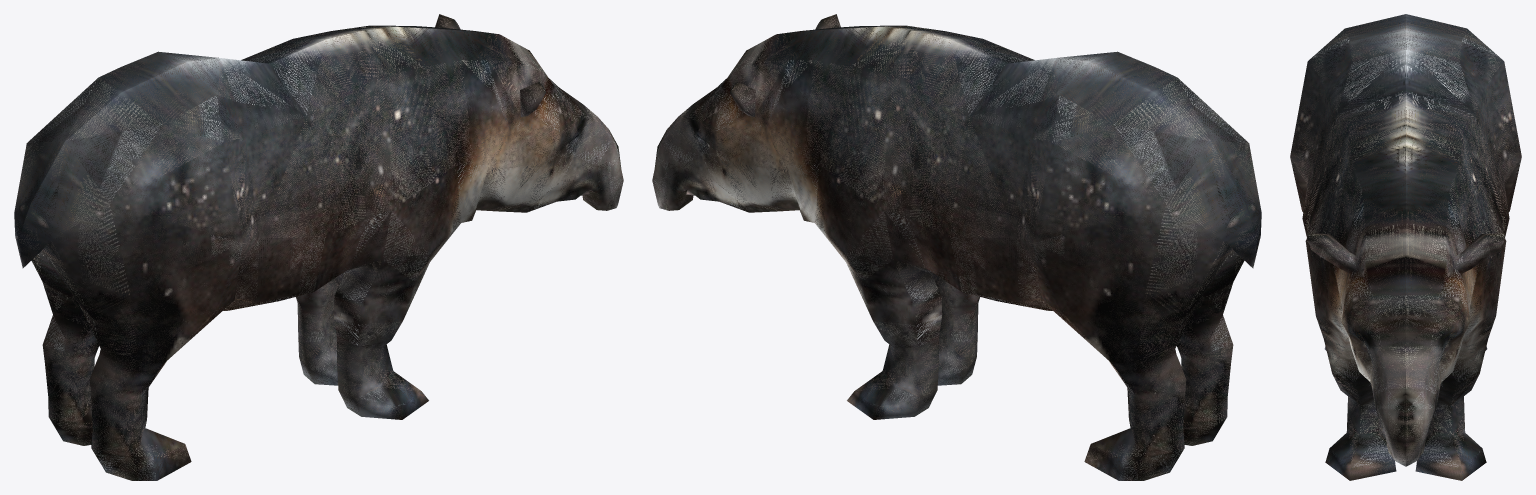
File: tapir.dae
3 views of the same model, side by side, from view 1: azimuth 30°, elevation 25°; view 2: azimuth 150°, elevation 25°; view 3: azimuth 270°, elevation 25° (orthographic). The views are drawn at different scales.
Parts seen in each view (by area): view 1: TapirFoto (×2); view 2: TapirFoto (×2); view 3: TapirFoto (×2).
Boxes of the visible parts, <box> form: TapirFoto (×2): <box>14,14,623,480</box>; TapirFoto (×2): <box>652,14,1261,480</box>; TapirFoto (×2): <box>1290,14,1521,480</box>.
Size of the model in its own units: 70.13 by 24.53 by 41.14.
1 material, 1 textured.
